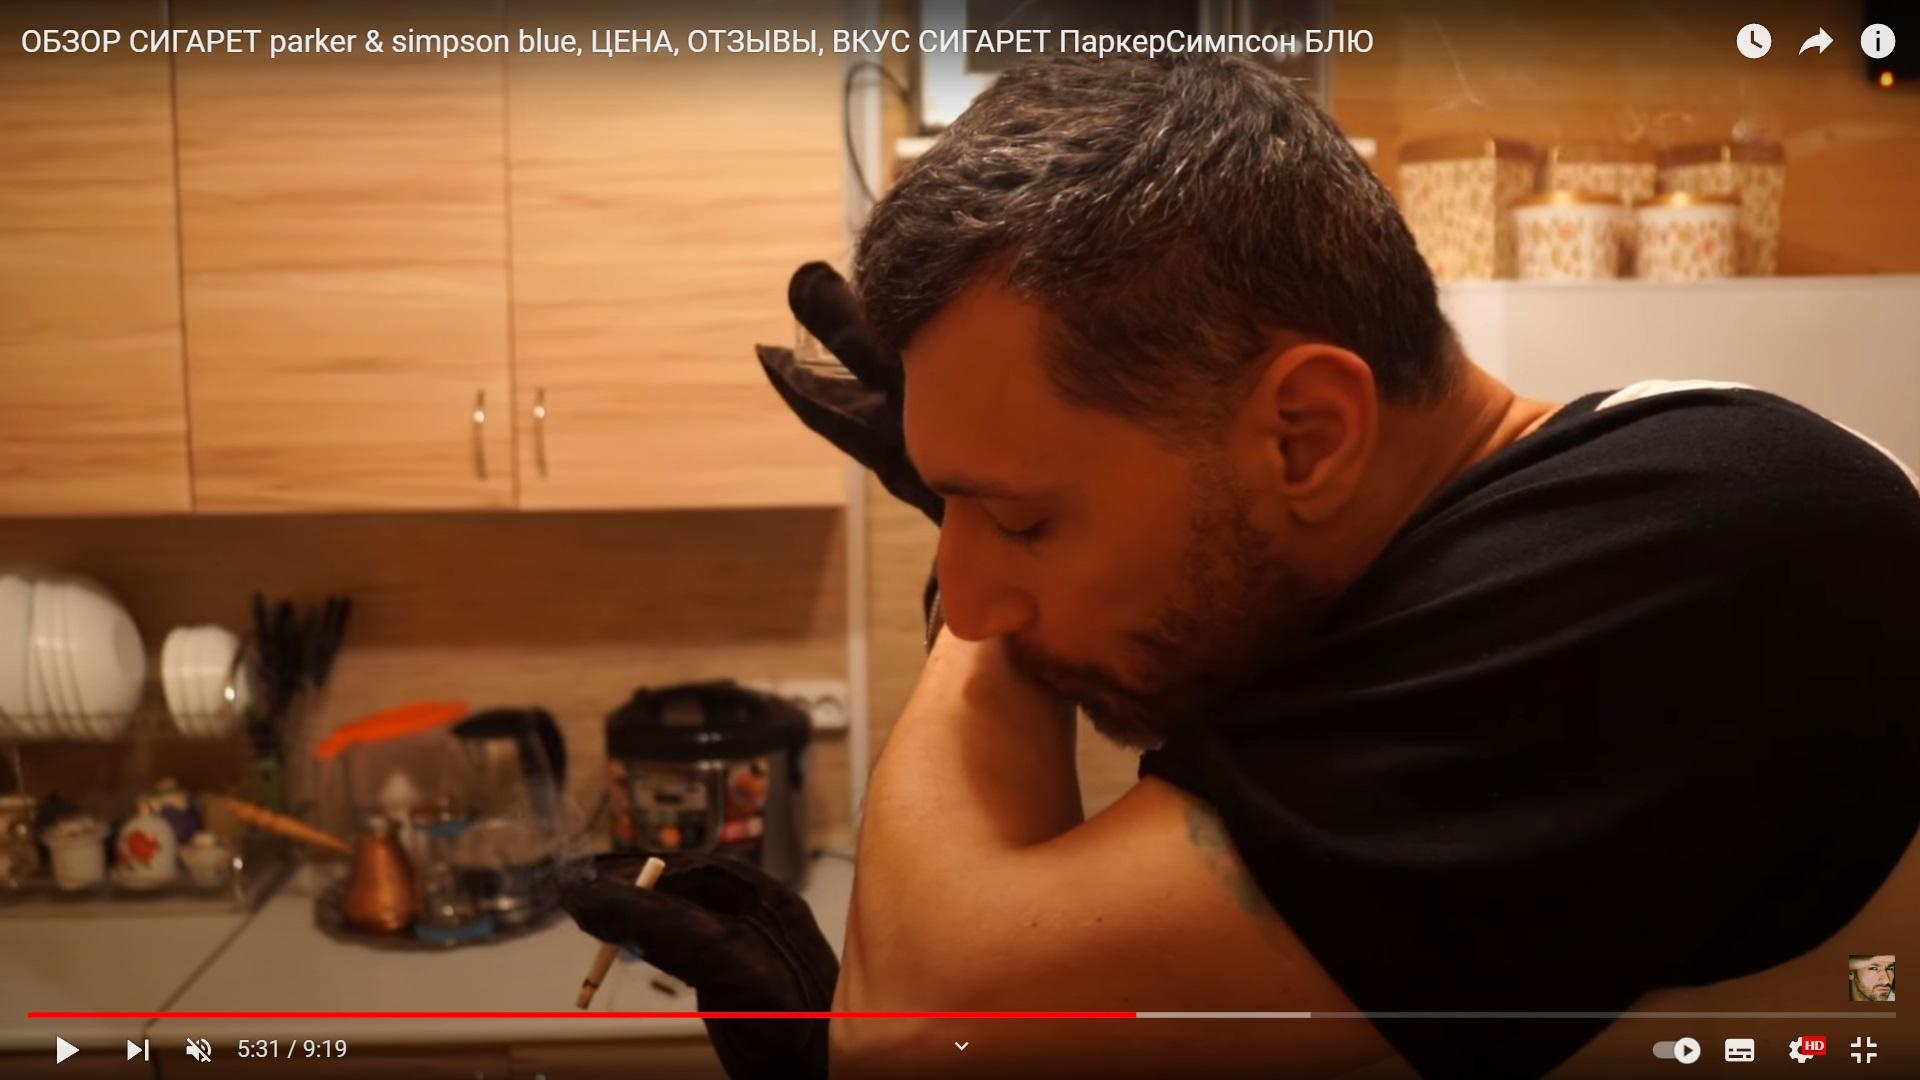cigarette: (575, 857, 667, 1011)
